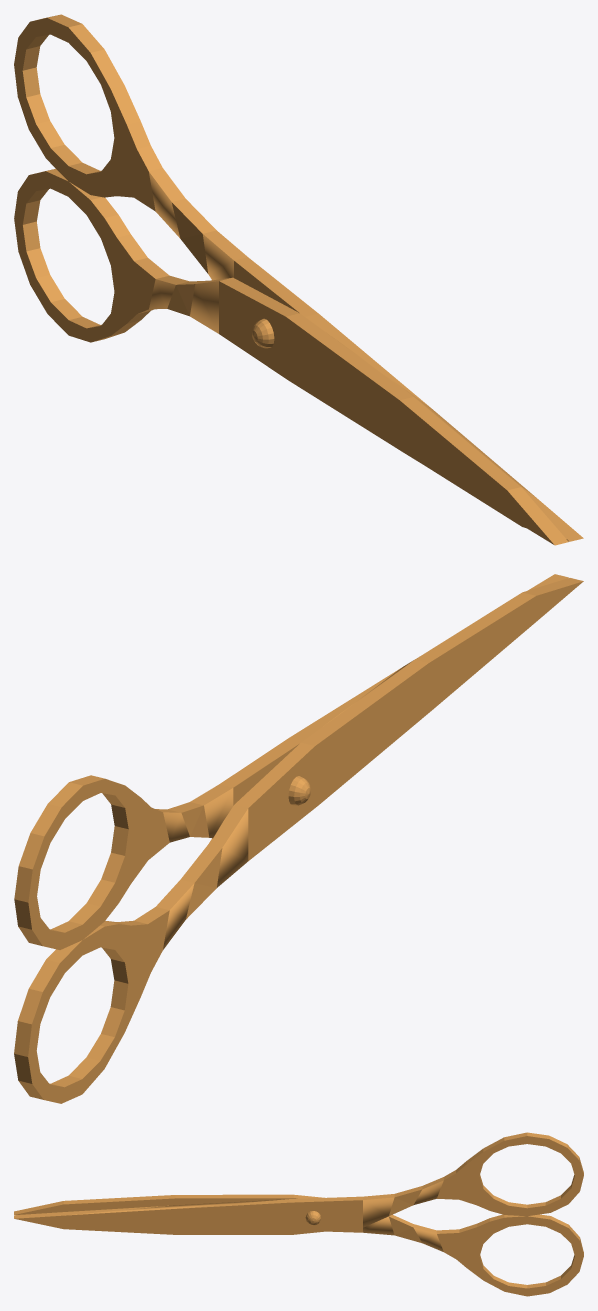
File: scissors1_6.dae
3 renders of one model, top to bottom at view 1: azimuth 30°, elevation 25°; view 2: azimuth 150°, elevation 25°; view 3: azimuth 270°, elevation 25°, orthographic. The views are drawn at different scales.
Visible parts, largest first — view 1: M003320_019; view 2: M003320_019; view 3: M003320_019.
Part boxes in pixels (x1,y1,x2,y2): M003320_019: (14,14,583,545); M003320_019: (14,574,583,1103); M003320_019: (14,1132,583,1296).
Size of the model in its own units: 0.0156 by 0.2706 by 0.084.
